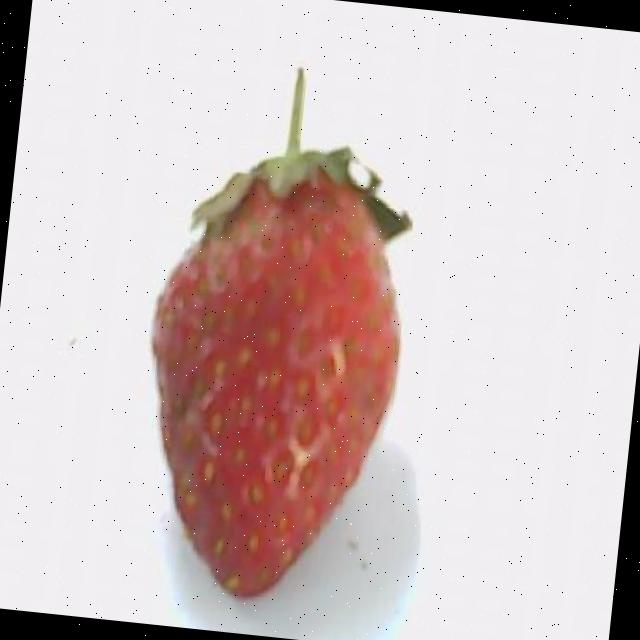strawberry: (154, 69, 409, 595)
